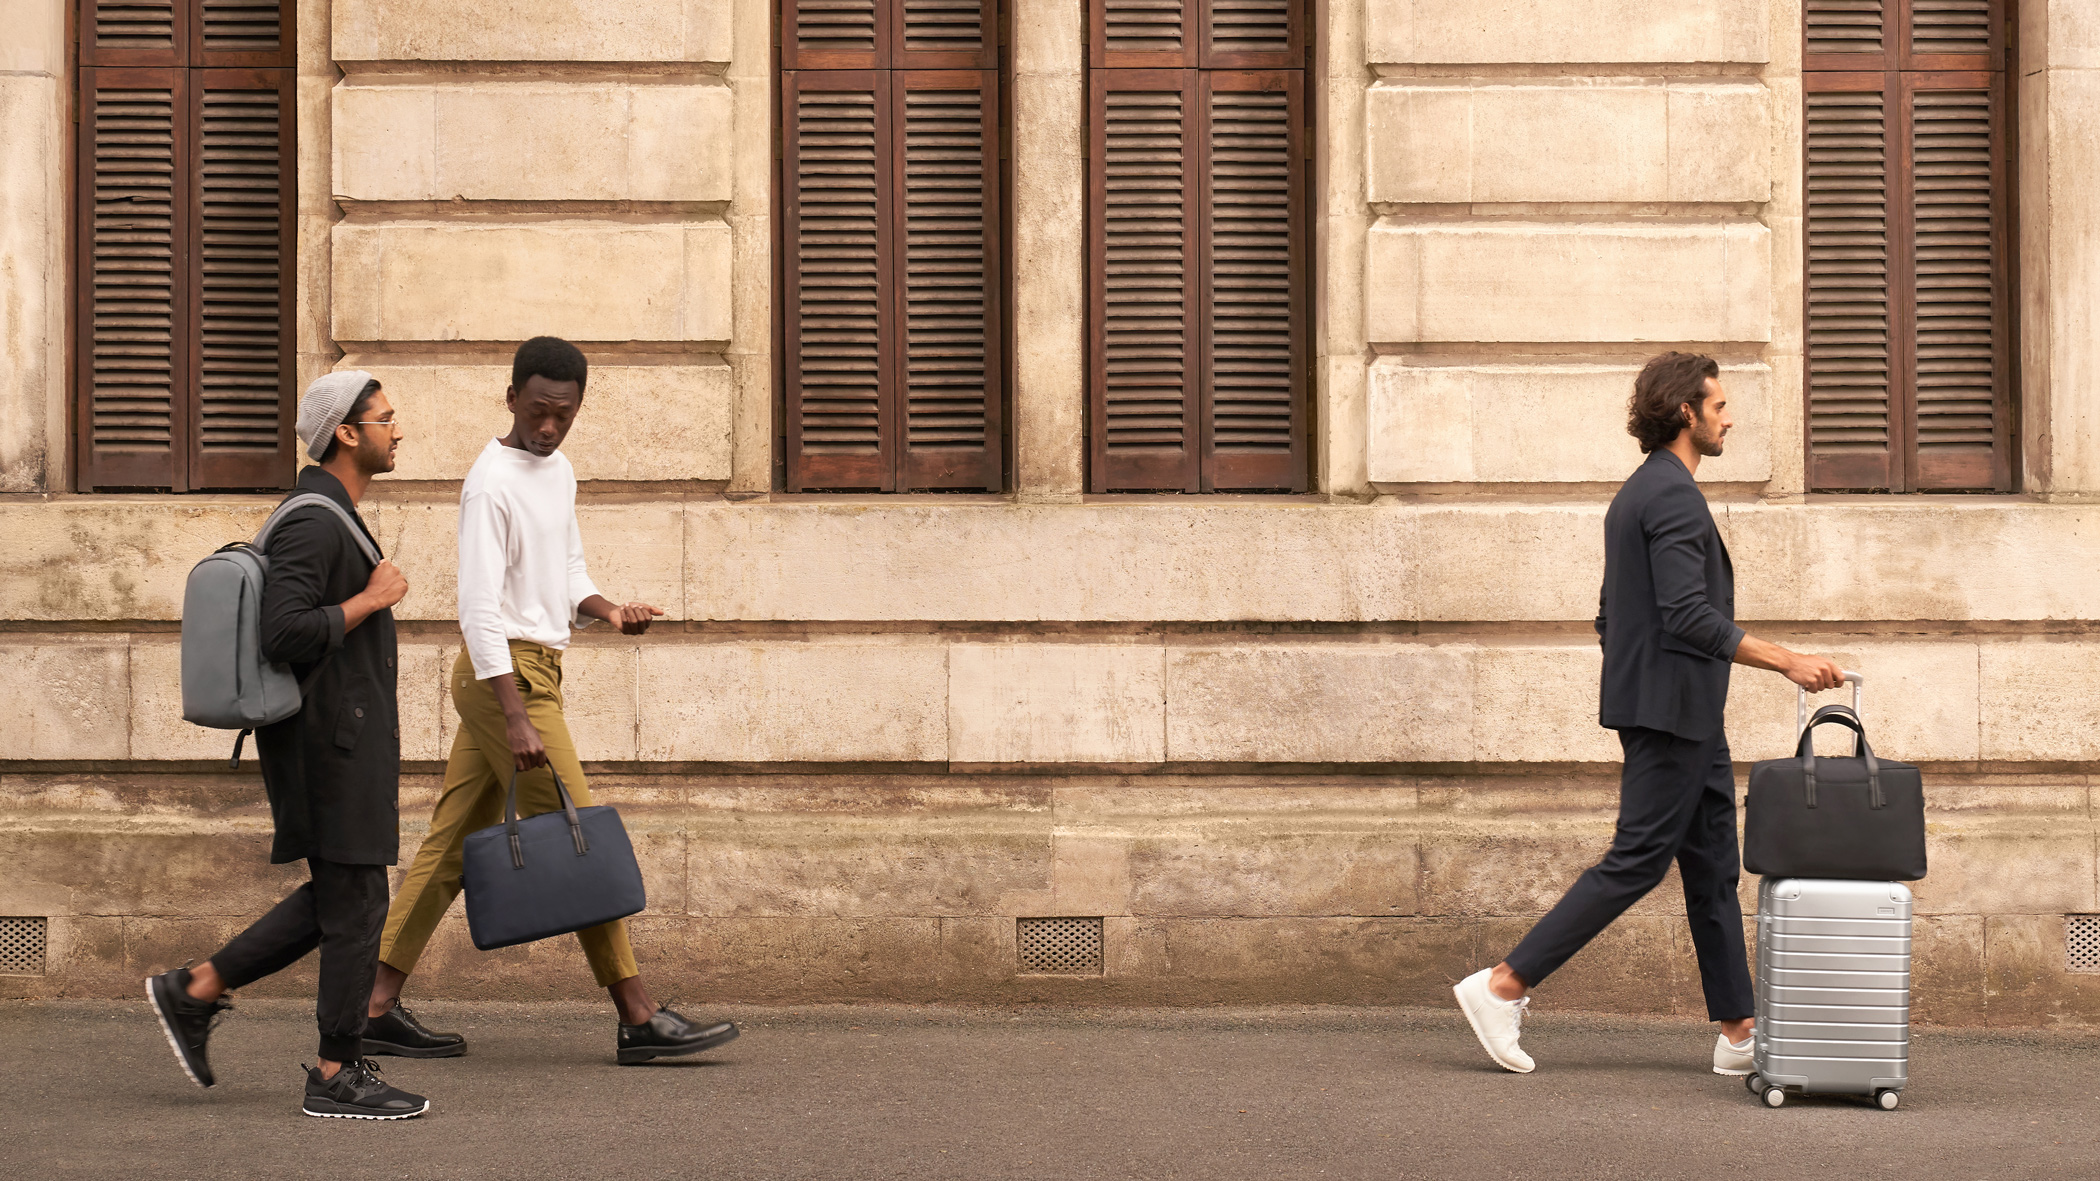backpack: (146, 480, 427, 761)
luggage: (1605, 668, 2052, 1115)
shoulder bag: (423, 746, 671, 994), (1732, 699, 1954, 923)
